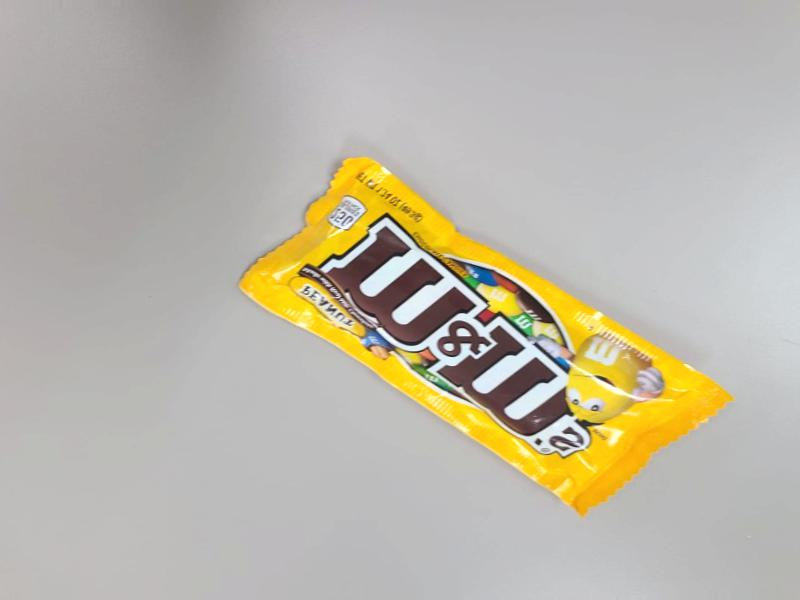m&m: (300, 188, 715, 572)
